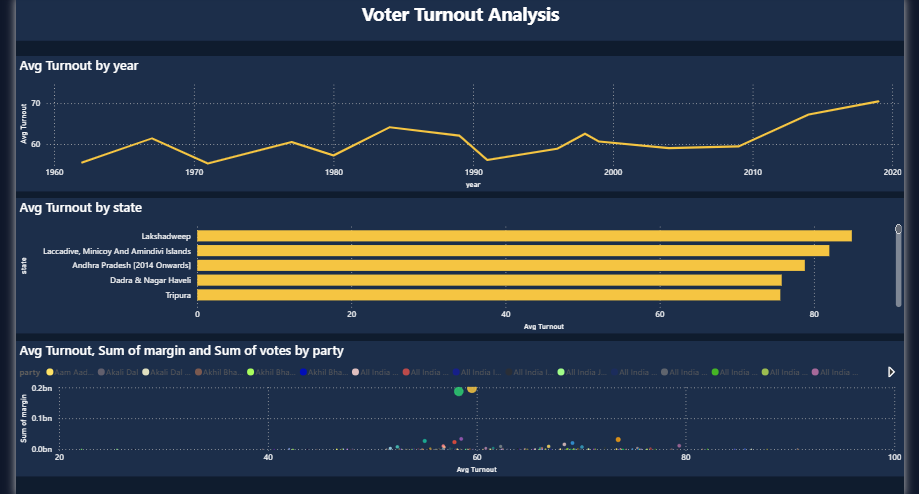

Layout of this report page (visuals, bound fields, positions):
{"tool":"powerbi","page":{"name":"Page 3","canvas":[1280,720],"ordinal":2},"visuals":[{"type":"lineChart","fields":{"Category":["final_processed_election_data.year"],"Y":["final_processed_election_data.Avg Turnout"]},"box":[0,85,1280,195],"z":0},{"type":"barChart","fields":{"Category":["final_processed_election_data.state"],"Y":["final_processed_election_data.Avg Turnout"]},"box":[0,290,1280,195],"z":1000},{"type":"scatterChart","fields":{"Y":["Sum(final_processed_election_data.margin)"],"Series":["final_processed_election_data.party"],"Size":["Sum(final_processed_election_data.votes)"],"X":["final_processed_election_data.Avg Turnout"]},"box":[0,495,1280,195],"z":2000},{"type":"textbox","box":[0,0,1280,62.5],"z":3000}]}

Visuals, with their boxes on the page's 1280x720 design canvas (x1, y1, x2, y2). These are canvas units, not pixel positions in the 919x494 screenshot, which may show the page scaled, cropped or inside an application window:
lineChart - final_processed_election_data.year x final_processed_election_data.Avg Turnout: 0 85 1280 280
barChart - final_processed_election_data.state x final_processed_election_data.Avg Turnout: 0 290 1280 485
scatterChart - Sum(final_processed_election_data.margin) x final_processed_election_data.party: 0 495 1280 690
textbox: 0 0 1280 62
